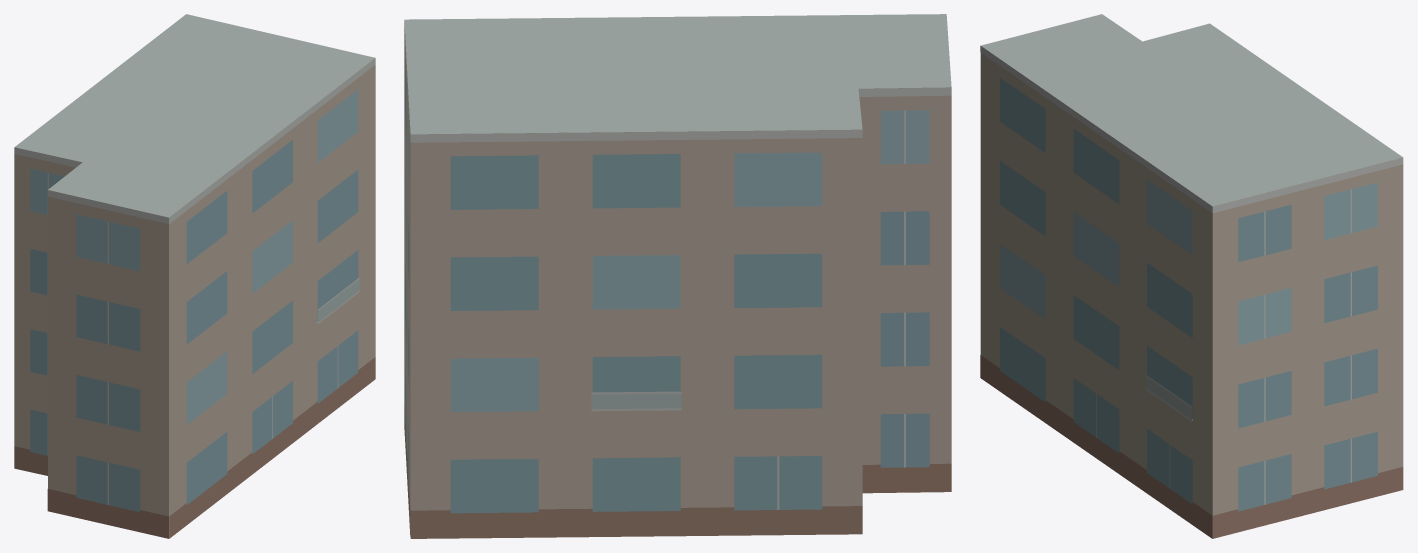
File: survey-upis-32501336.glb
3 views of the same model, side by side, from view 1: azimuth 30°, elevation 25°; view 2: azimuth 150°, elevation 25°; view 3: azimuth 270°, elevation 25° (orthographic). The views are drawn at different scales.
Visible parts, largest first — view 1: survey-upis-32501336.tmp; view 2: survey-upis-32501336.tmp; view 3: survey-upis-32501336.tmp.
Part boxes in pixels (x1,y1,x2,y2): survey-upis-32501336.tmp: (14,14,375,538); survey-upis-32501336.tmp: (404,14,951,538); survey-upis-32501336.tmp: (980,14,1403,538).
Bounding box in the file's own units: 14.66 × 11.8 × 13.61.
